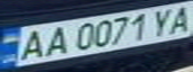0: (90, 17, 115, 48), (72, 20, 96, 52)
1: (127, 11, 154, 42)
7: (109, 14, 136, 45)
A: (12, 27, 51, 62), (39, 25, 72, 57), (163, 2, 193, 35)
Y: (145, 6, 181, 37)
